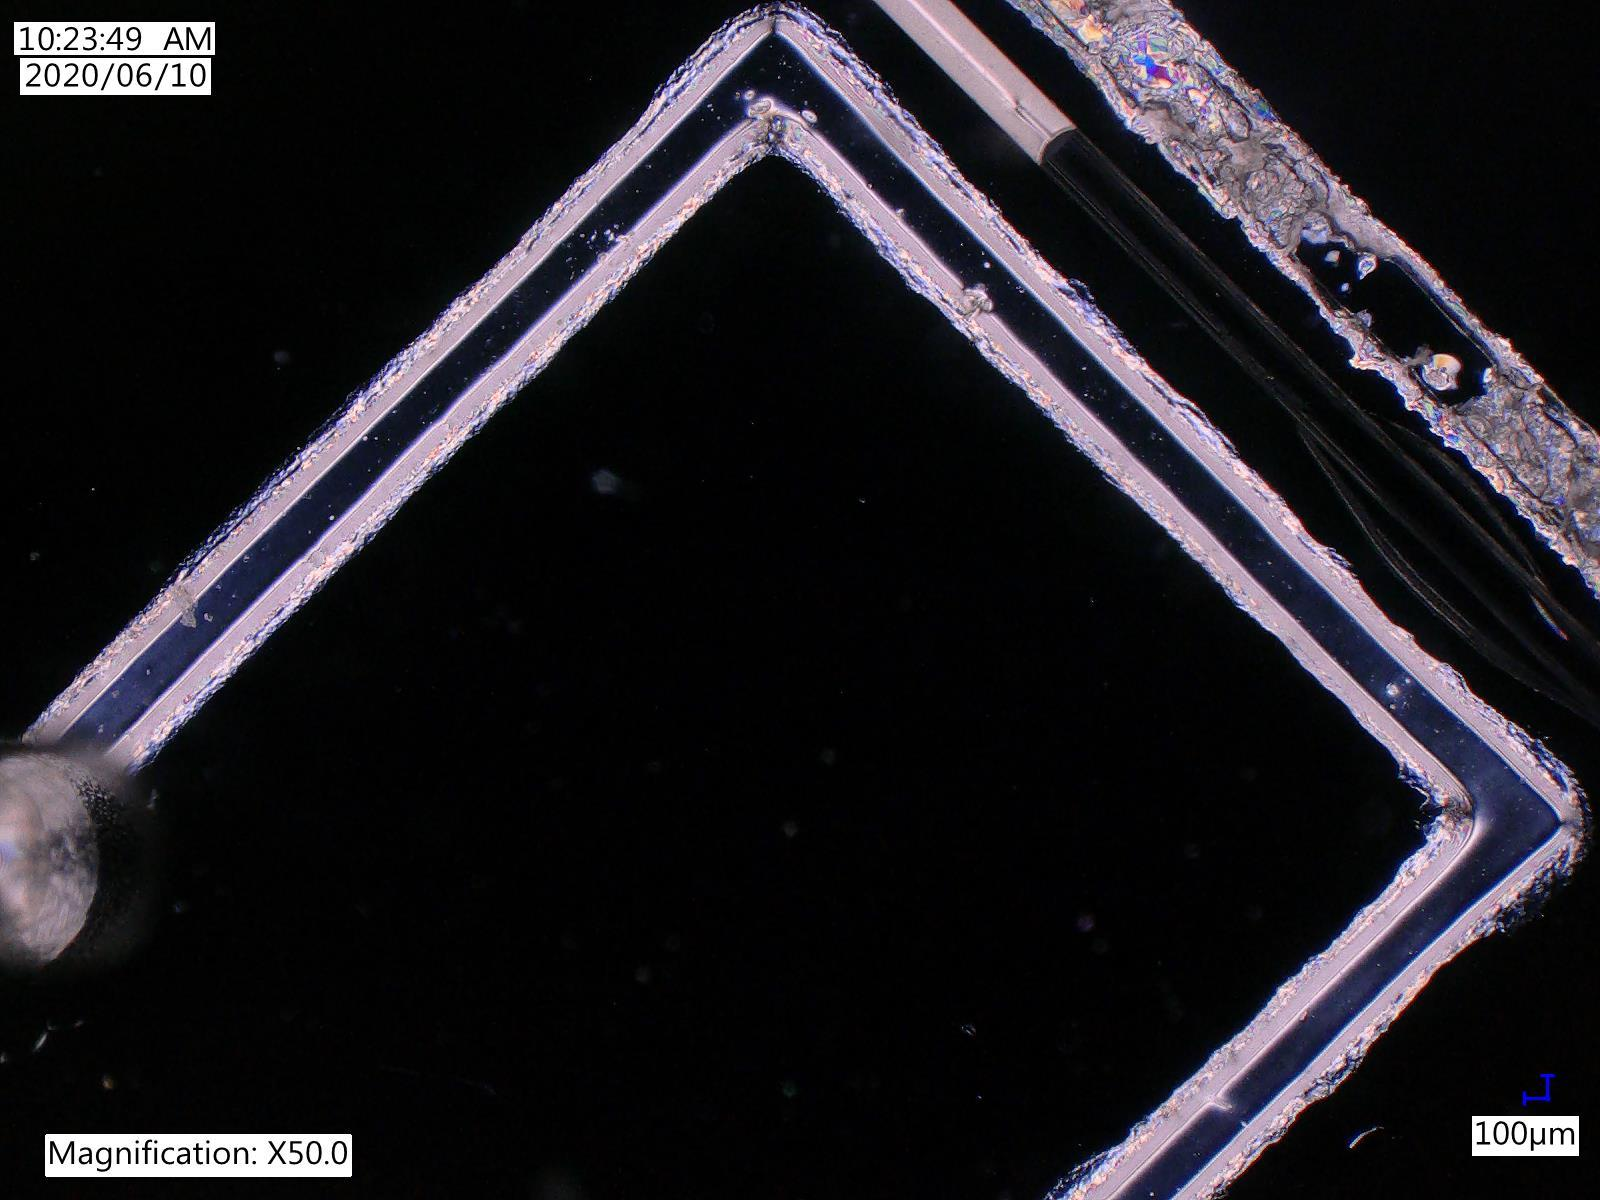sediment: (1123, 89, 1340, 238), (1450, 372, 1600, 551)
